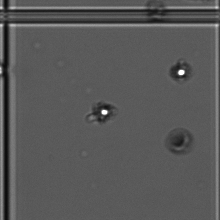Dead Cell: (163, 124, 198, 160)
Living Cell: (88, 98, 121, 123), (169, 57, 192, 88)
